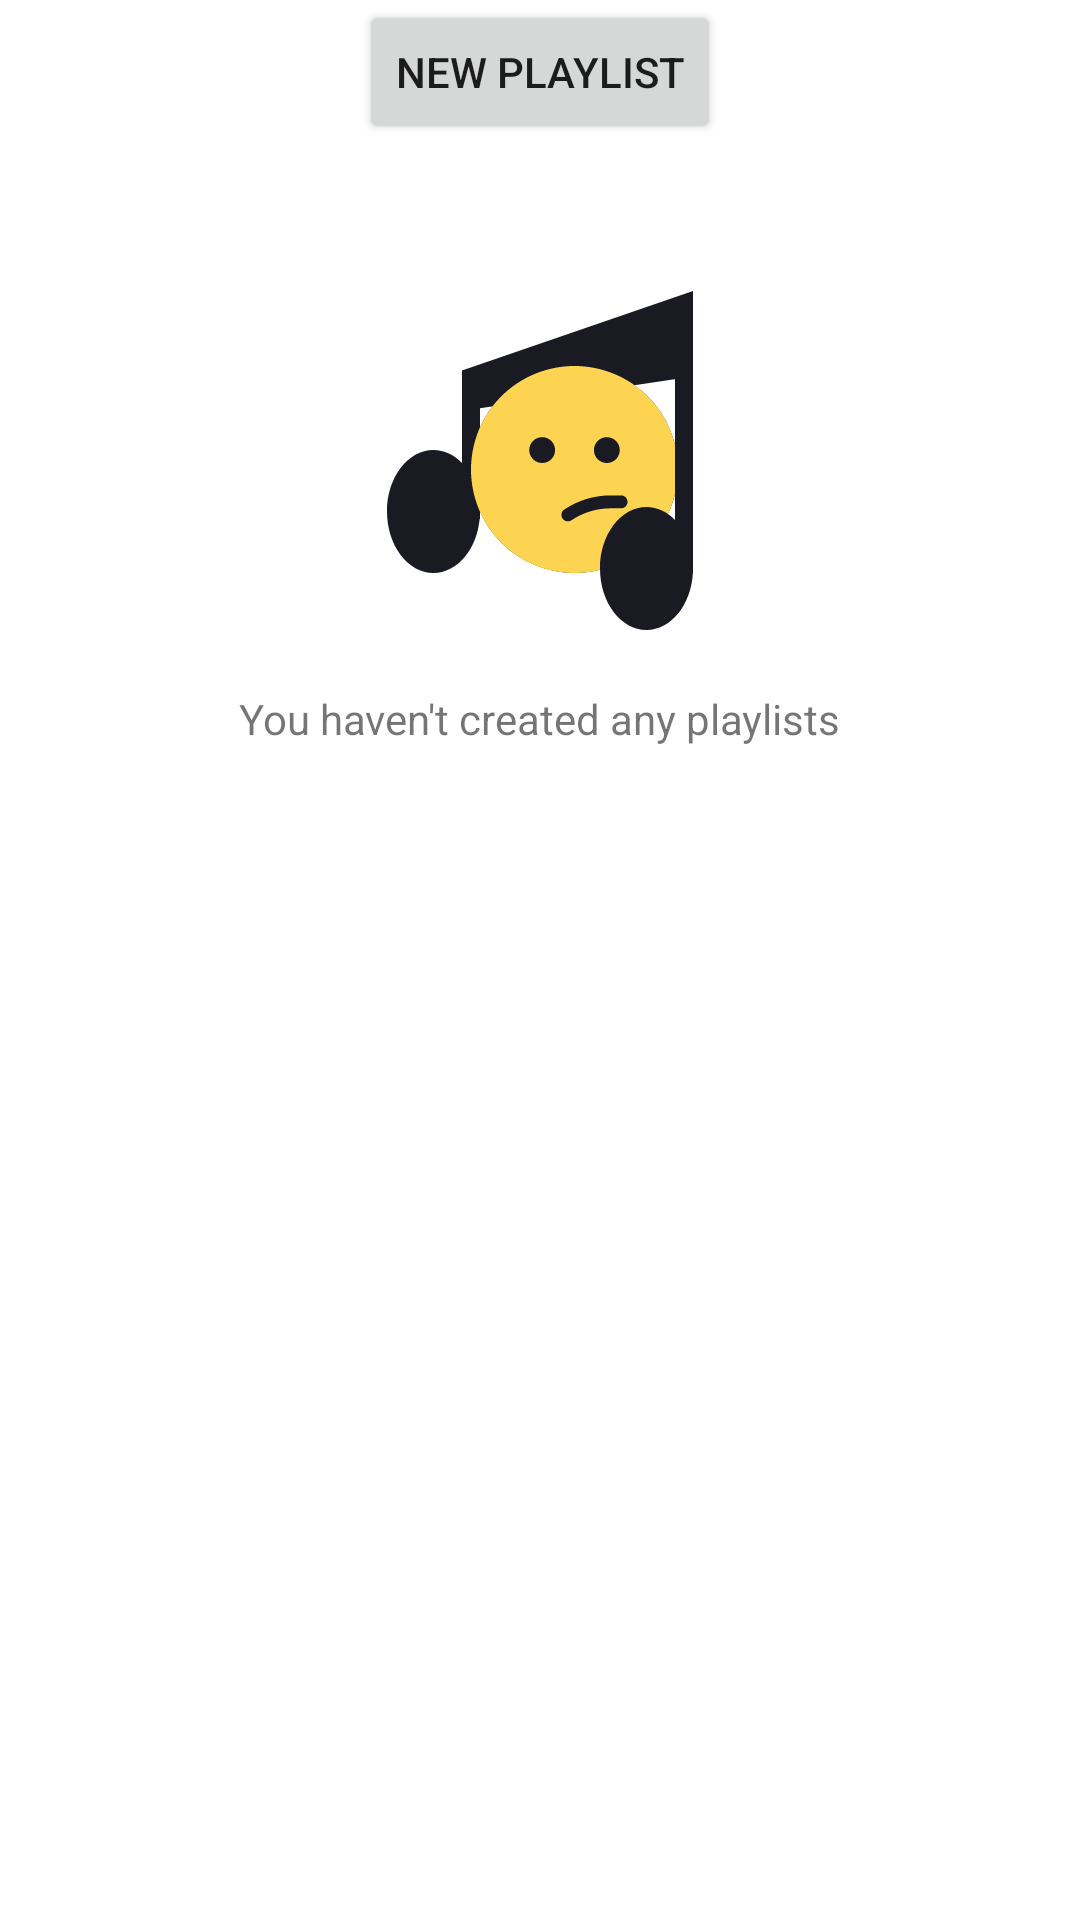

Screen size 1080 × 1920. Icon name, then its center in pixels as [x,y]:
nothing found: [540,460]
